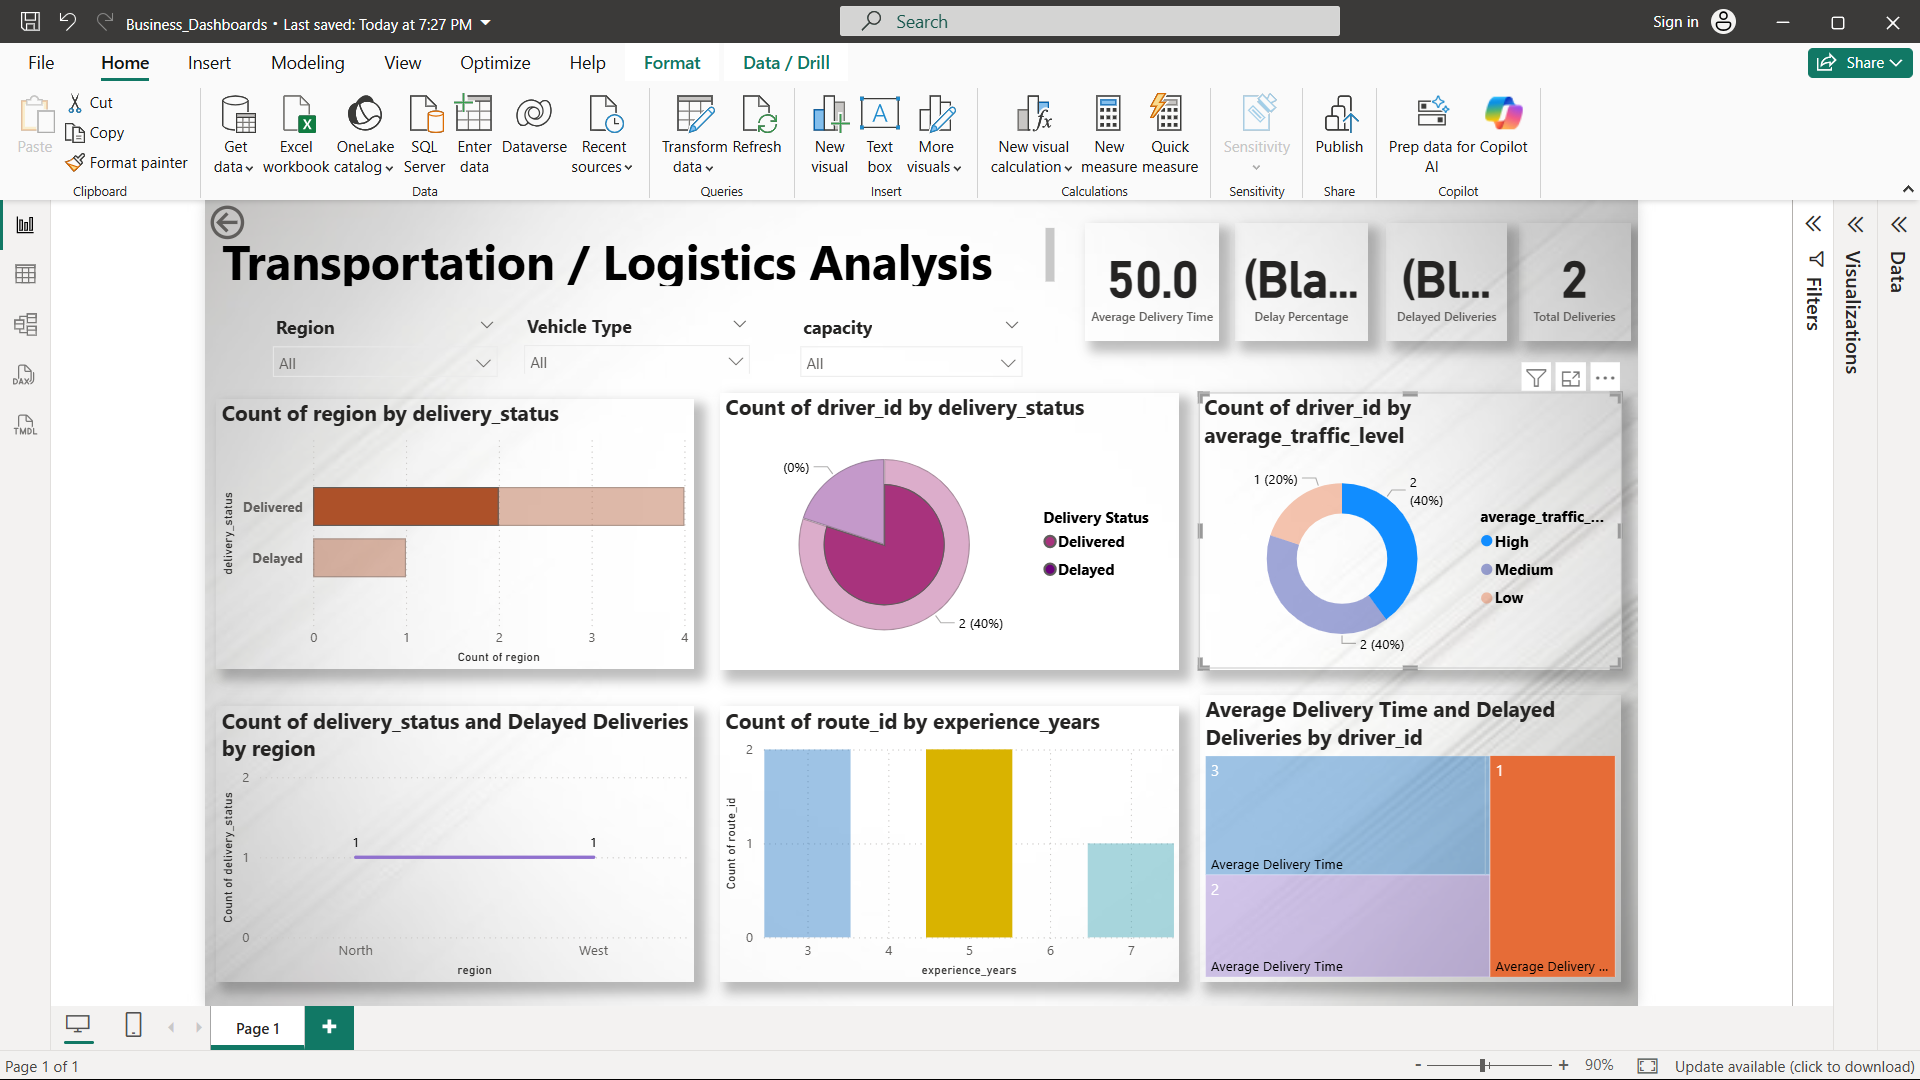

This screenshot's page, from the dashboard's own definition file:
{"tool":"powerbi","page":{"name":"Page 1","canvas":[1280,720],"ordinal":0},"visuals":[{"type":"card","fields":{"Values":["transportation_logistics_analysis_project deliveries.Average Delivery Time"]},"box":[785.7,20.2,120.2,106],"z":0},{"type":"card","fields":{"Values":["transportation_logistics_analysis_project deliveries.Delay Percentage"]},"box":[920.2,20.2,119,106],"z":1000},{"type":"card","fields":{"Values":["transportation_logistics_analysis_project deliveries.Delayed Deliveries"]},"box":[1054.8,20.2,108.3,106],"z":2000},{"type":"card","fields":{"Values":["transportation_logistics_analysis_project deliveries.Total Deliveries"]},"box":[1173.8,20.2,100,106],"z":3000},{"type":"barChart","fields":{"Y":["CountNonNull(transportation_logistics_analysis_project orders.region)"],"Category":["transportation_logistics_analysis_project deliveries.delivery_status"]},"box":[9.5,177.4,427.4,241.7],"z":4000},{"type":"pieChart","fields":{"Y":["CountNonNull(transportation_logistics_analysis_project deliveries.driver_id)"],"Category":["transportation_logistics_analysis_project deliveries.delivery_status"]},"box":[459.5,171.4,410.7,247.6],"z":5000},{"type":"donutChart","fields":{"Category":["transportation_logistics_analysis_project routes.average_traffic_level"],"Y":["CountNonNull(transportation_logistics_analysis_project deliveries.driver_id)"]},"box":[888.1,171.4,377.4,247.6],"z":6000},{"type":"treemap","fields":{"Group":["transportation_logistics_analysis_project deliveries.driver_id"],"Values":["transportation_logistics_analysis_project deliveries.Average Delivery Time","transportation_logistics_analysis_project deliveries.Delayed Deliveries"]},"box":[889.3,441.7,376.2,257.1],"z":7000},{"type":"actionButton","box":[0,0,100,40],"z":8000},{"type":"lineChart","fields":{"Y":["CountNonNull(transportation_logistics_analysis_project deliveries.delivery_status)"],"Category":["transportation_logistics_analysis_project orders.region"]},"box":[9.5,452.4,427.4,246.4],"z":9000},{"type":"lineStackedColumnComboChart","fields":{"Category":["transportation_logistics_analysis_project drivers.experience_years"],"Y":["CountNonNull(transportation_logistics_analysis_project deliveries.route_id)"]},"box":[459.5,452.4,410.7,246.4],"z":10000},{"type":"slicer","fields":{"Values":["transportation_logistics_analysis_project orders.region"]},"box":[50,97.7,220.9,60.5],"z":11000},{"type":"slicer","fields":{"Values":["transportation_logistics_analysis_project vehicles.vehicle_type"]},"box":[274.4,96.5,222.1,59.3],"z":12000},{"type":"textbox","box":[9.5,20.2,753.6,61.9],"z":13000},{"type":"slicer","fields":{"Values":["transportation_logistics_analysis_project vehicles.capacity"]},"box":[520.9,97.7,218.6,60.5],"z":13001}]}

Visuals, with their boxes on the page's 1280x720 design canvas (x1, y1, x2, y2). These are canvas units, not pixel positions in the 1920x1080 screenshot, which may show the page scaled, cropped or inside an application window:
card - transportation_logistics_analysis_project deliveries.Average Delivery Time: [x1=786, y1=20, x2=906, y2=126]
card - transportation_logistics_analysis_project deliveries.Delay Percentage: [x1=920, y1=20, x2=1039, y2=126]
card - transportation_logistics_analysis_project deliveries.Delayed Deliveries: [x1=1055, y1=20, x2=1163, y2=126]
card - transportation_logistics_analysis_project deliveries.Total Deliveries: [x1=1174, y1=20, x2=1274, y2=126]
barChart - CountNonNull(transportation_logistics_analysis_project orders.region) x transportation_logistics_analysis_project deliveries.delivery_status: [x1=10, y1=177, x2=437, y2=419]
pieChart - CountNonNull(transportation_logistics_analysis_project deliveries.driver_id) x transportation_logistics_analysis_project deliveries.delivery_status: [x1=460, y1=171, x2=870, y2=419]
donutChart - transportation_logistics_analysis_project routes.average_traffic_level x CountNonNull(transportation_logistics_analysis_project deliveries.driver_id): [x1=888, y1=171, x2=1266, y2=419]
treemap - transportation_logistics_analysis_project deliveries.driver_id x transportation_logistics_analysis_project deliveries.Average Delivery Time: [x1=889, y1=442, x2=1266, y2=699]
actionButton: [x1=0, y1=0, x2=100, y2=40]
lineChart - CountNonNull(transportation_logistics_analysis_project deliveries.delivery_status) x transportation_logistics_analysis_project orders.region: [x1=10, y1=452, x2=437, y2=699]
lineStackedColumnComboChart - transportation_logistics_analysis_project drivers.experience_years x CountNonNull(transportation_logistics_analysis_project deliveries.route_id): [x1=460, y1=452, x2=870, y2=699]
slicer - transportation_logistics_analysis_project orders.region: [x1=50, y1=98, x2=271, y2=158]
slicer - transportation_logistics_analysis_project vehicles.vehicle_type: [x1=274, y1=96, x2=496, y2=156]
textbox: [x1=10, y1=20, x2=763, y2=82]
slicer - transportation_logistics_analysis_project vehicles.capacity: [x1=521, y1=98, x2=740, y2=158]
